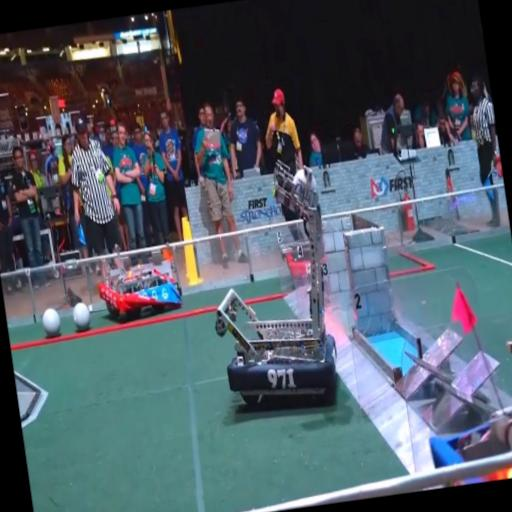robot: (190, 156, 352, 432), (90, 234, 188, 325)
